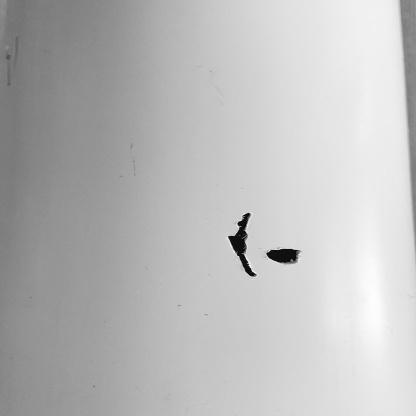kongdong: (225, 212, 260, 279), (264, 246, 303, 267)
